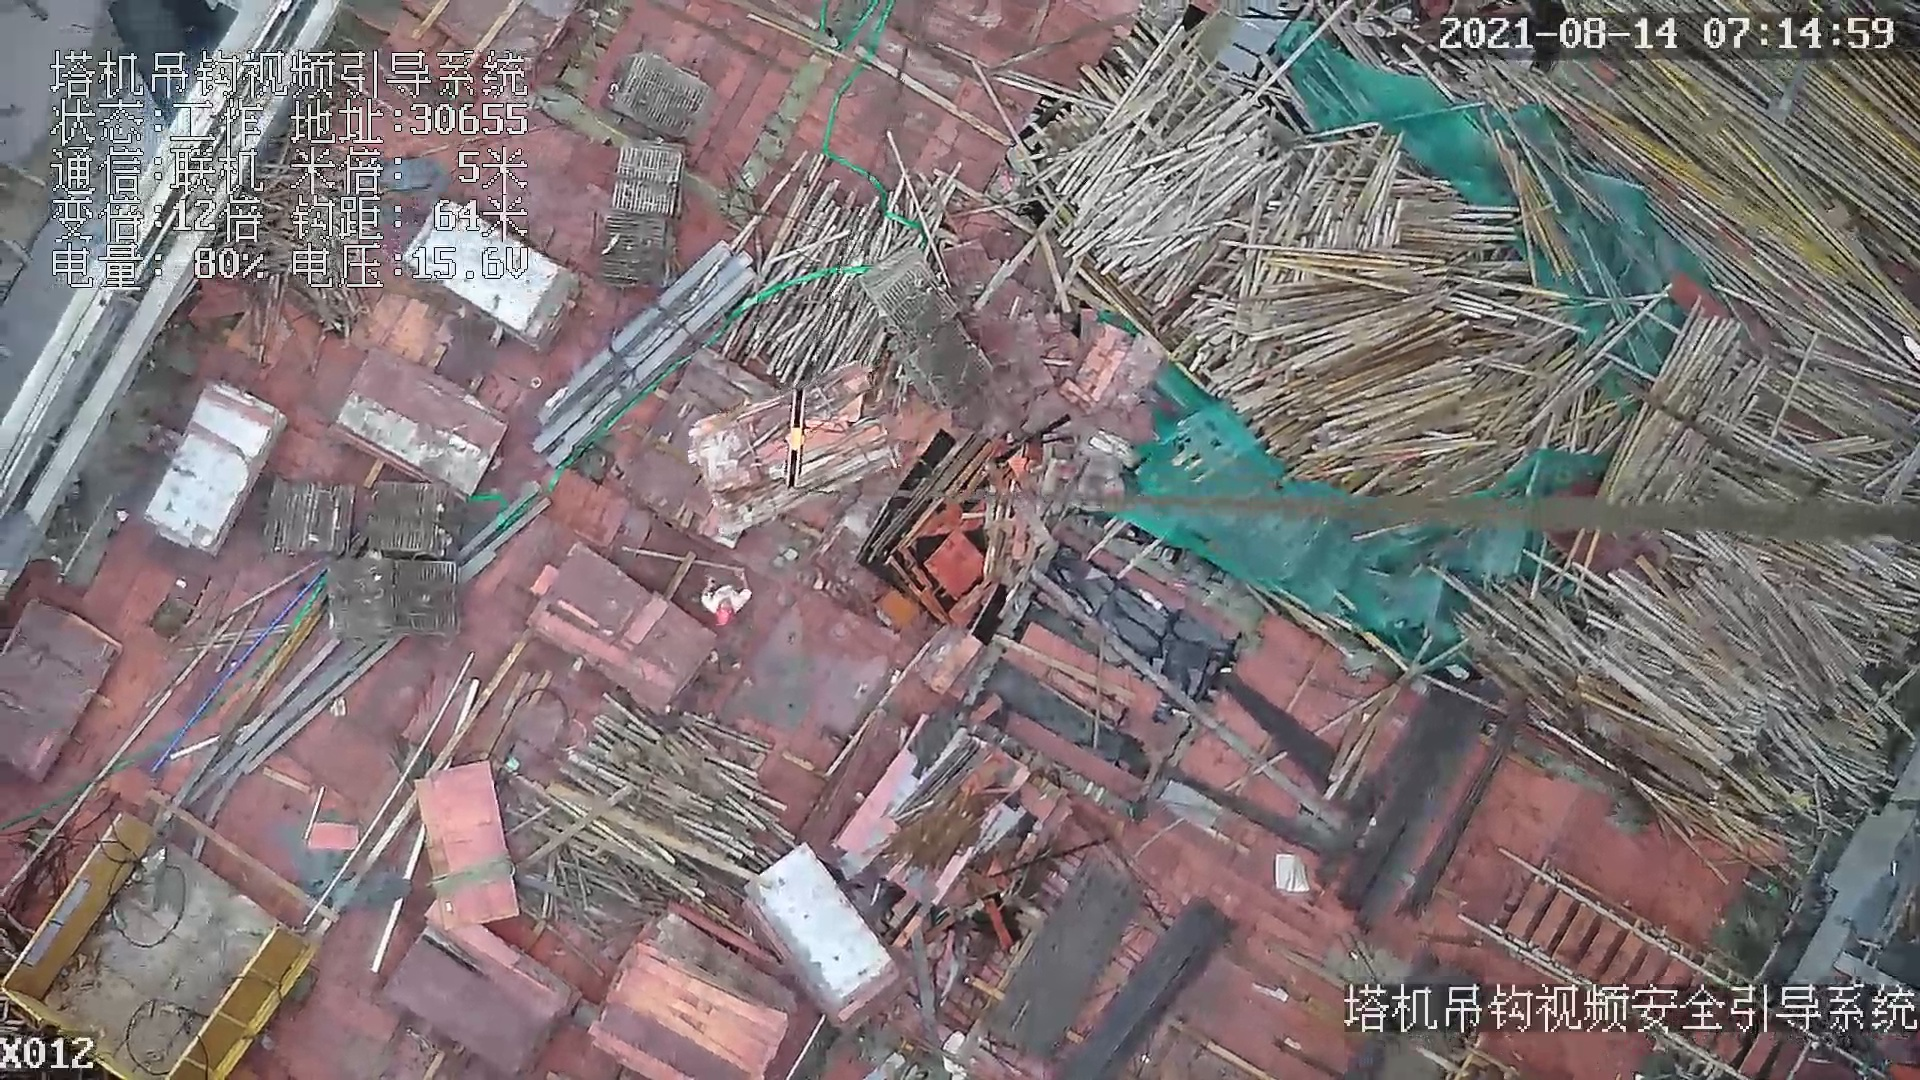helmet: (710, 605, 738, 627)
hook: (776, 386, 812, 494)
person: (695, 565, 762, 627)
